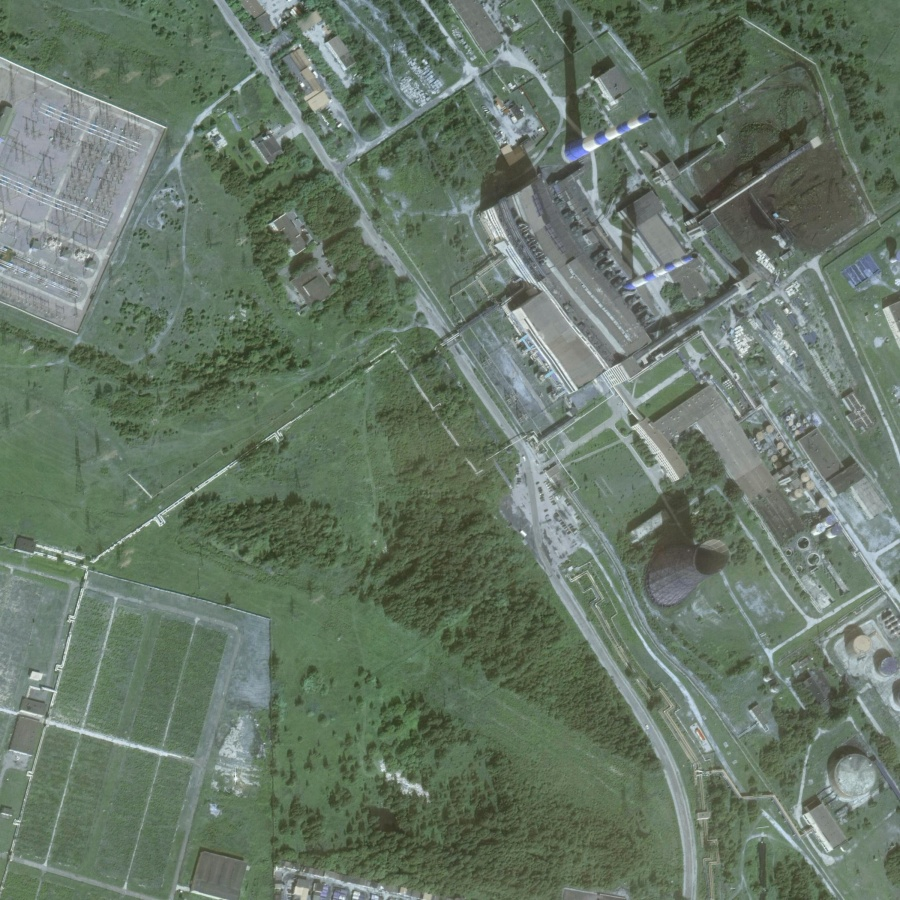PowerPlant: (531, 37, 837, 420), (620, 488, 749, 618)
